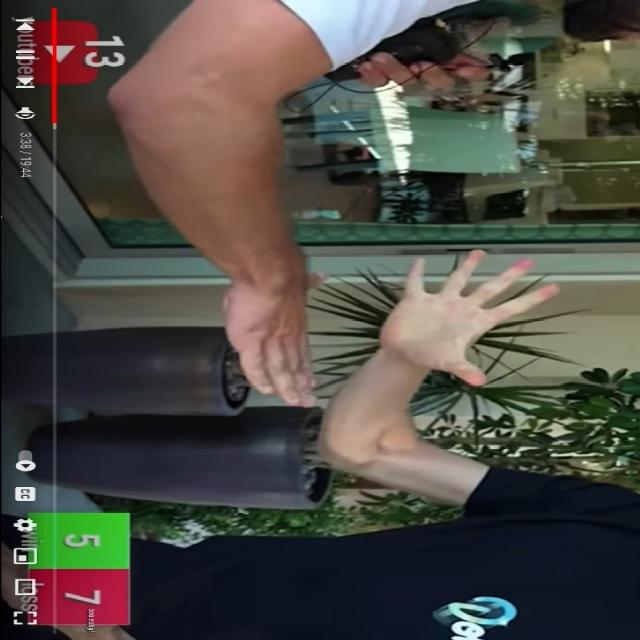Paper: (376, 250, 556, 388), (218, 270, 326, 410)
